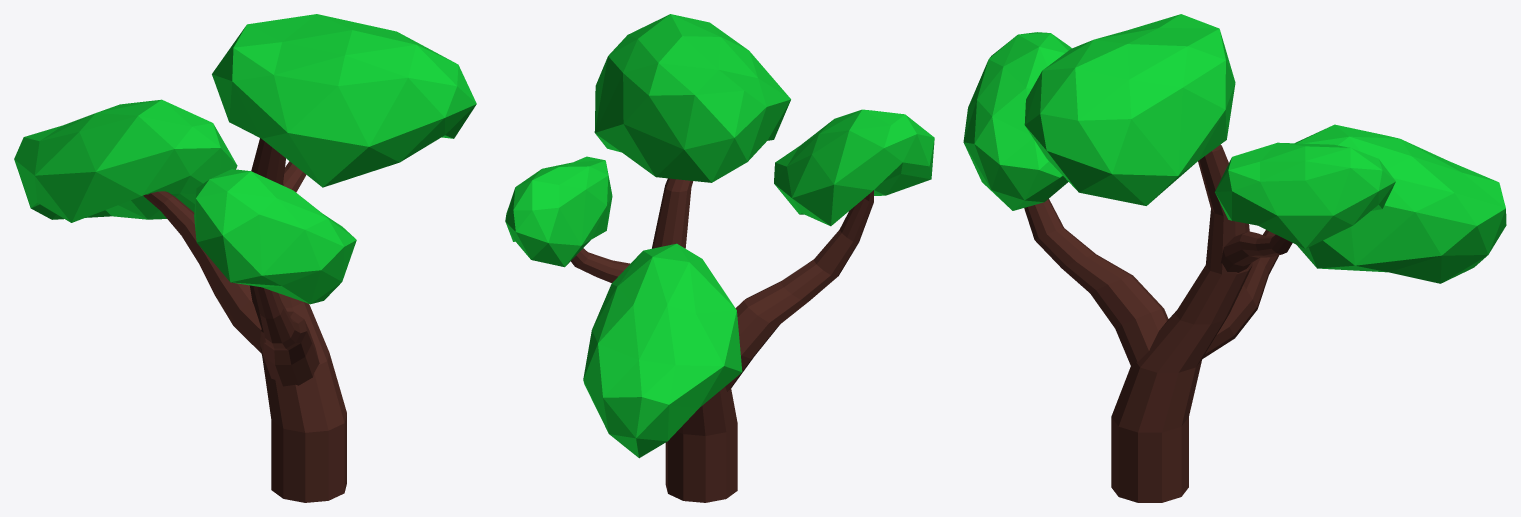
File: tree1.fbx
3 views of the same model, side by side, from view 1: azimuth 30°, elevation 25°; view 2: azimuth 150°, elevation 25°; view 3: azimuth 270°, elevation 25° (orthographic). The views are drawn at different scales.
Visible parts, largest first — view 1: Icosphere.001; view 2: Icosphere.001; view 3: Icosphere.001.
Boxes of the visible parts, <box> form: Icosphere.001: <box>14,14,476,502</box>; Icosphere.001: <box>505,14,934,502</box>; Icosphere.001: <box>963,14,1506,502</box>.
Size of the model in its own units: 913 by 1303 by 1398.
